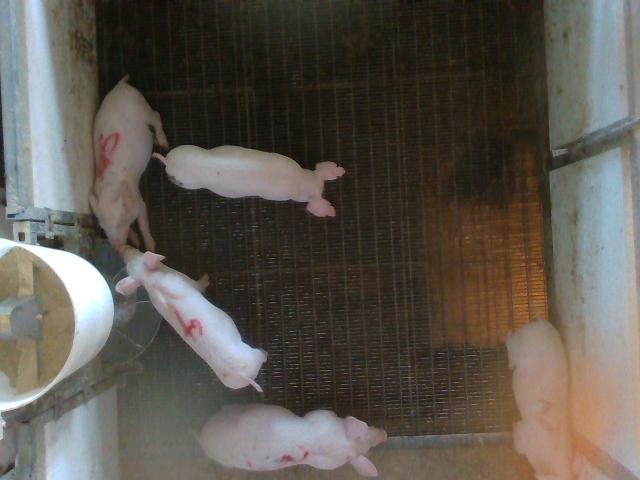pig-2: (506, 319, 572, 479)
pig-3: (199, 404, 388, 476)
pig-4: (116, 246, 266, 391)
pig-5: (89, 78, 168, 251)
